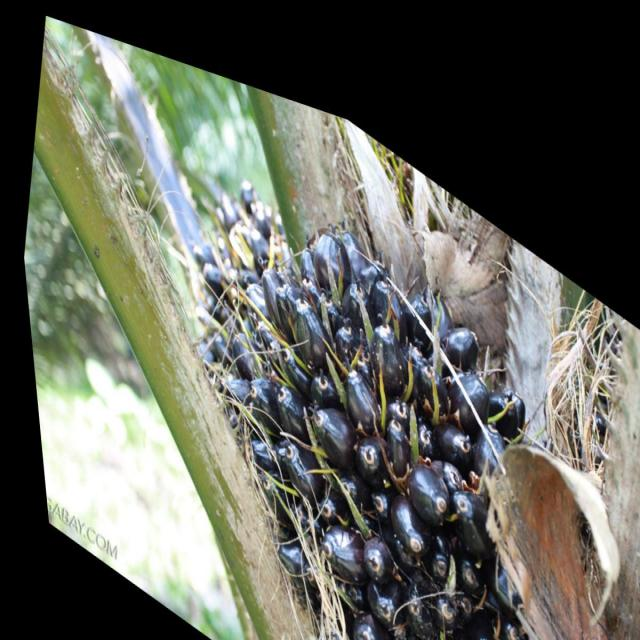Unripe: (149, 101, 640, 640)
